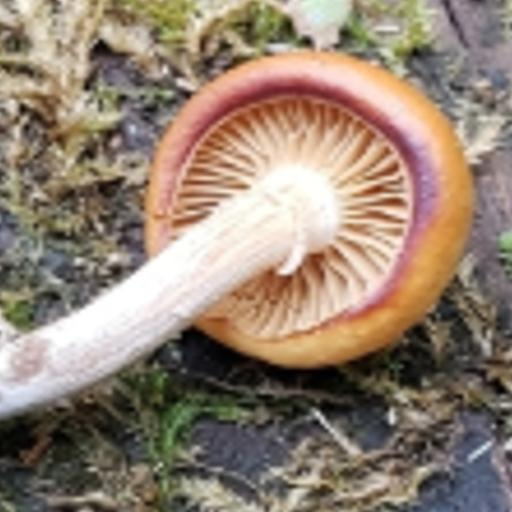mushroom: (124, 45, 479, 383)
